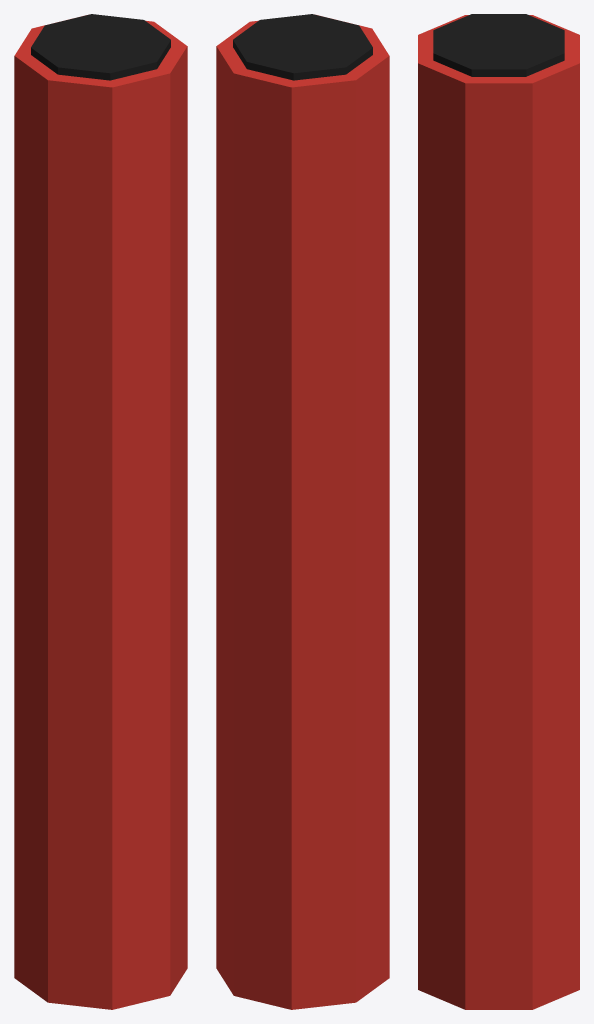
The model's file is Road_Flare_Flaring.fbx.
3 views of the same model, side by side, from view 1: azimuth 30°, elevation 25°; view 2: azimuth 150°, elevation 25°; view 3: azimuth 270°, elevation 25° (orthographic).
Parts seen in each view (by area): view 1: Road Flare; view 2: Road Flare; view 3: Road Flare.
Boxes of the visible parts, x1,y1,x2,y2 form: Road Flare: (14, 14, 187, 1009); Road Flare: (216, 14, 389, 1009); Road Flare: (418, 14, 579, 1009).
Bounding box in the file's own units: 68.21 × 434 × 68.21.
Materials: 1 (1 with a texture image).
